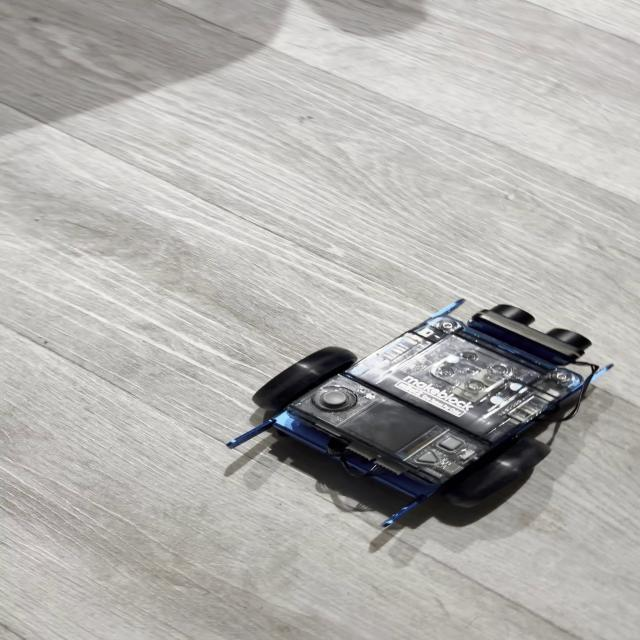mbot-detection: (212, 292, 624, 540)
